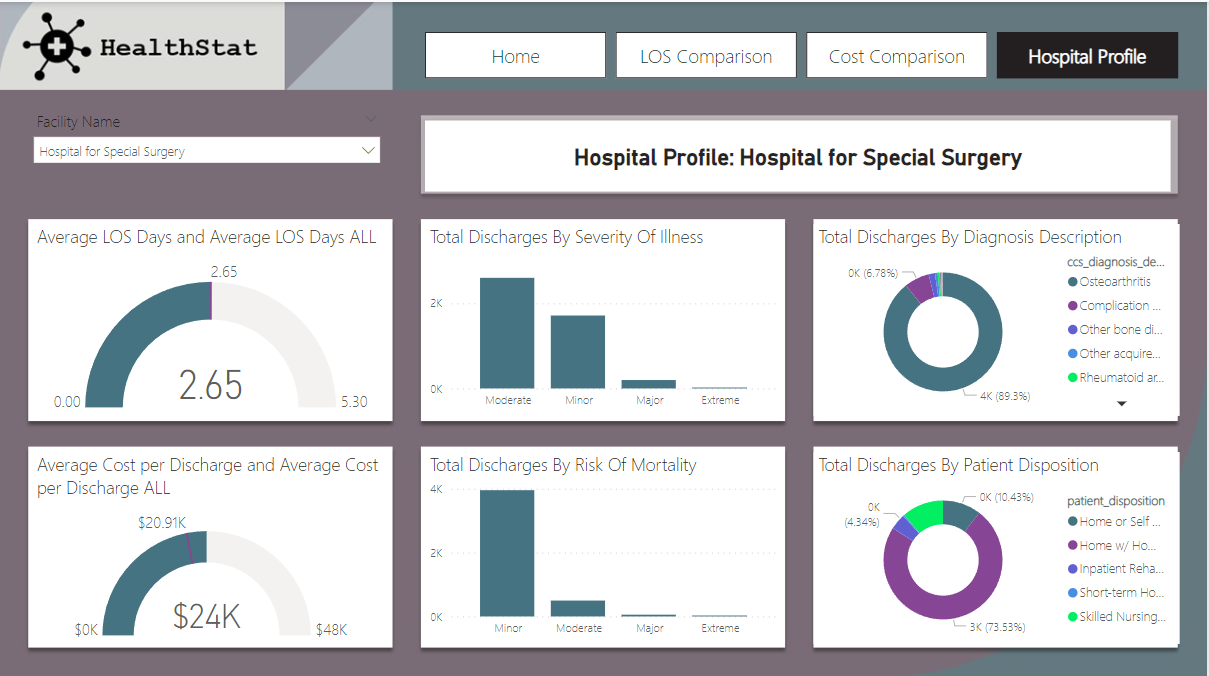

This screenshot's page, from the dashboard's own definition file:
{"tool":"powerbi","page":{"name":"Hospital Profile","canvas":[1280,720],"ordinal":3},"visuals":[{"type":"gauge","fields":{"Y":["_Measures.Average LOS Days"],"TargetValue":["_Measures.Average LOS Days ALL"]},"box":[35.7,235.3,377.9,203.9],"z":0},{"type":"gauge","fields":{"Y":["_Measures.Average Cost per Discharge"],"TargetValue":["_Measures.Average Cost per Discharge ALL"]},"box":[35.7,476.3,377.9,203.9],"z":1000},{"type":"clusteredColumnChart","title":"Total Discharges By Severity Of Illness","fields":{"Y":["_Measures.Total Discharges"],"Category":["hospital_discharges.apr_severity_of_illness_description"]},"box":[450.6,235.3,377.9,203.9],"z":2000},{"type":"clusteredColumnChart","title":"Total Discharges By Risk Of Mortality","fields":{"Y":["_Measures.Total Discharges"],"Category":["hospital_discharges.apr_risk_of_mortality"]},"box":[450.6,476.3,377.9,203.9],"z":3000},{"type":"donutChart","title":"Total Discharges By Diagnosis Description","fields":{"Y":["_Measures.Total Discharges"],"Category":["hospital_discharges.ccs_diagnosis_description"]},"box":[863,235.2,387.8,203.4],"z":4000},{"type":"donutChart","title":"Total Discharges By Patient Disposition","fields":{"Y":["_Measures.Total Discharges"],"Series":["hospital_discharges.patient_disposition"]},"box":[863,476.8,387.8,203.4],"z":5000},{"type":"slicer","fields":{"Values":["hospital_discharges.facility_name"]},"box":[27.1,109.8,386.5,107],"z":6000},{"type":"card","fields":{"Values":["_Measures.Title Selected Facility"]},"box":[450.6,125.5,790,75.6],"z":7000},{"type":"pageNavigator","box":[452.1,31.4,800,49.9],"z":8000}]}

Visuals, with their boxes in screenshot pixels (x1, y1, x2, y2), scaled from the page's 1280x720 canvas onto the 1209x676 screenshot:
gauge - _Measures.Average LOS Days x _Measures.Average LOS Days ALL: BBox(34, 221, 391, 412)
gauge - _Measures.Average Cost per Discharge x _Measures.Average Cost per Discharge ALL: BBox(34, 447, 391, 639)
"Total Discharges By Severity Of Illness" clusteredColumnChart: BBox(426, 221, 783, 412)
"Total Discharges By Risk Of Mortality" clusteredColumnChart: BBox(426, 447, 783, 639)
"Total Discharges By Diagnosis Description" donutChart: BBox(815, 221, 1181, 412)
"Total Discharges By Patient Disposition" donutChart: BBox(815, 448, 1181, 639)
slicer - hospital_discharges.facility_name: BBox(26, 103, 391, 204)
card - _Measures.Title Selected Facility: BBox(426, 118, 1172, 189)
pageNavigator: BBox(427, 29, 1183, 76)
